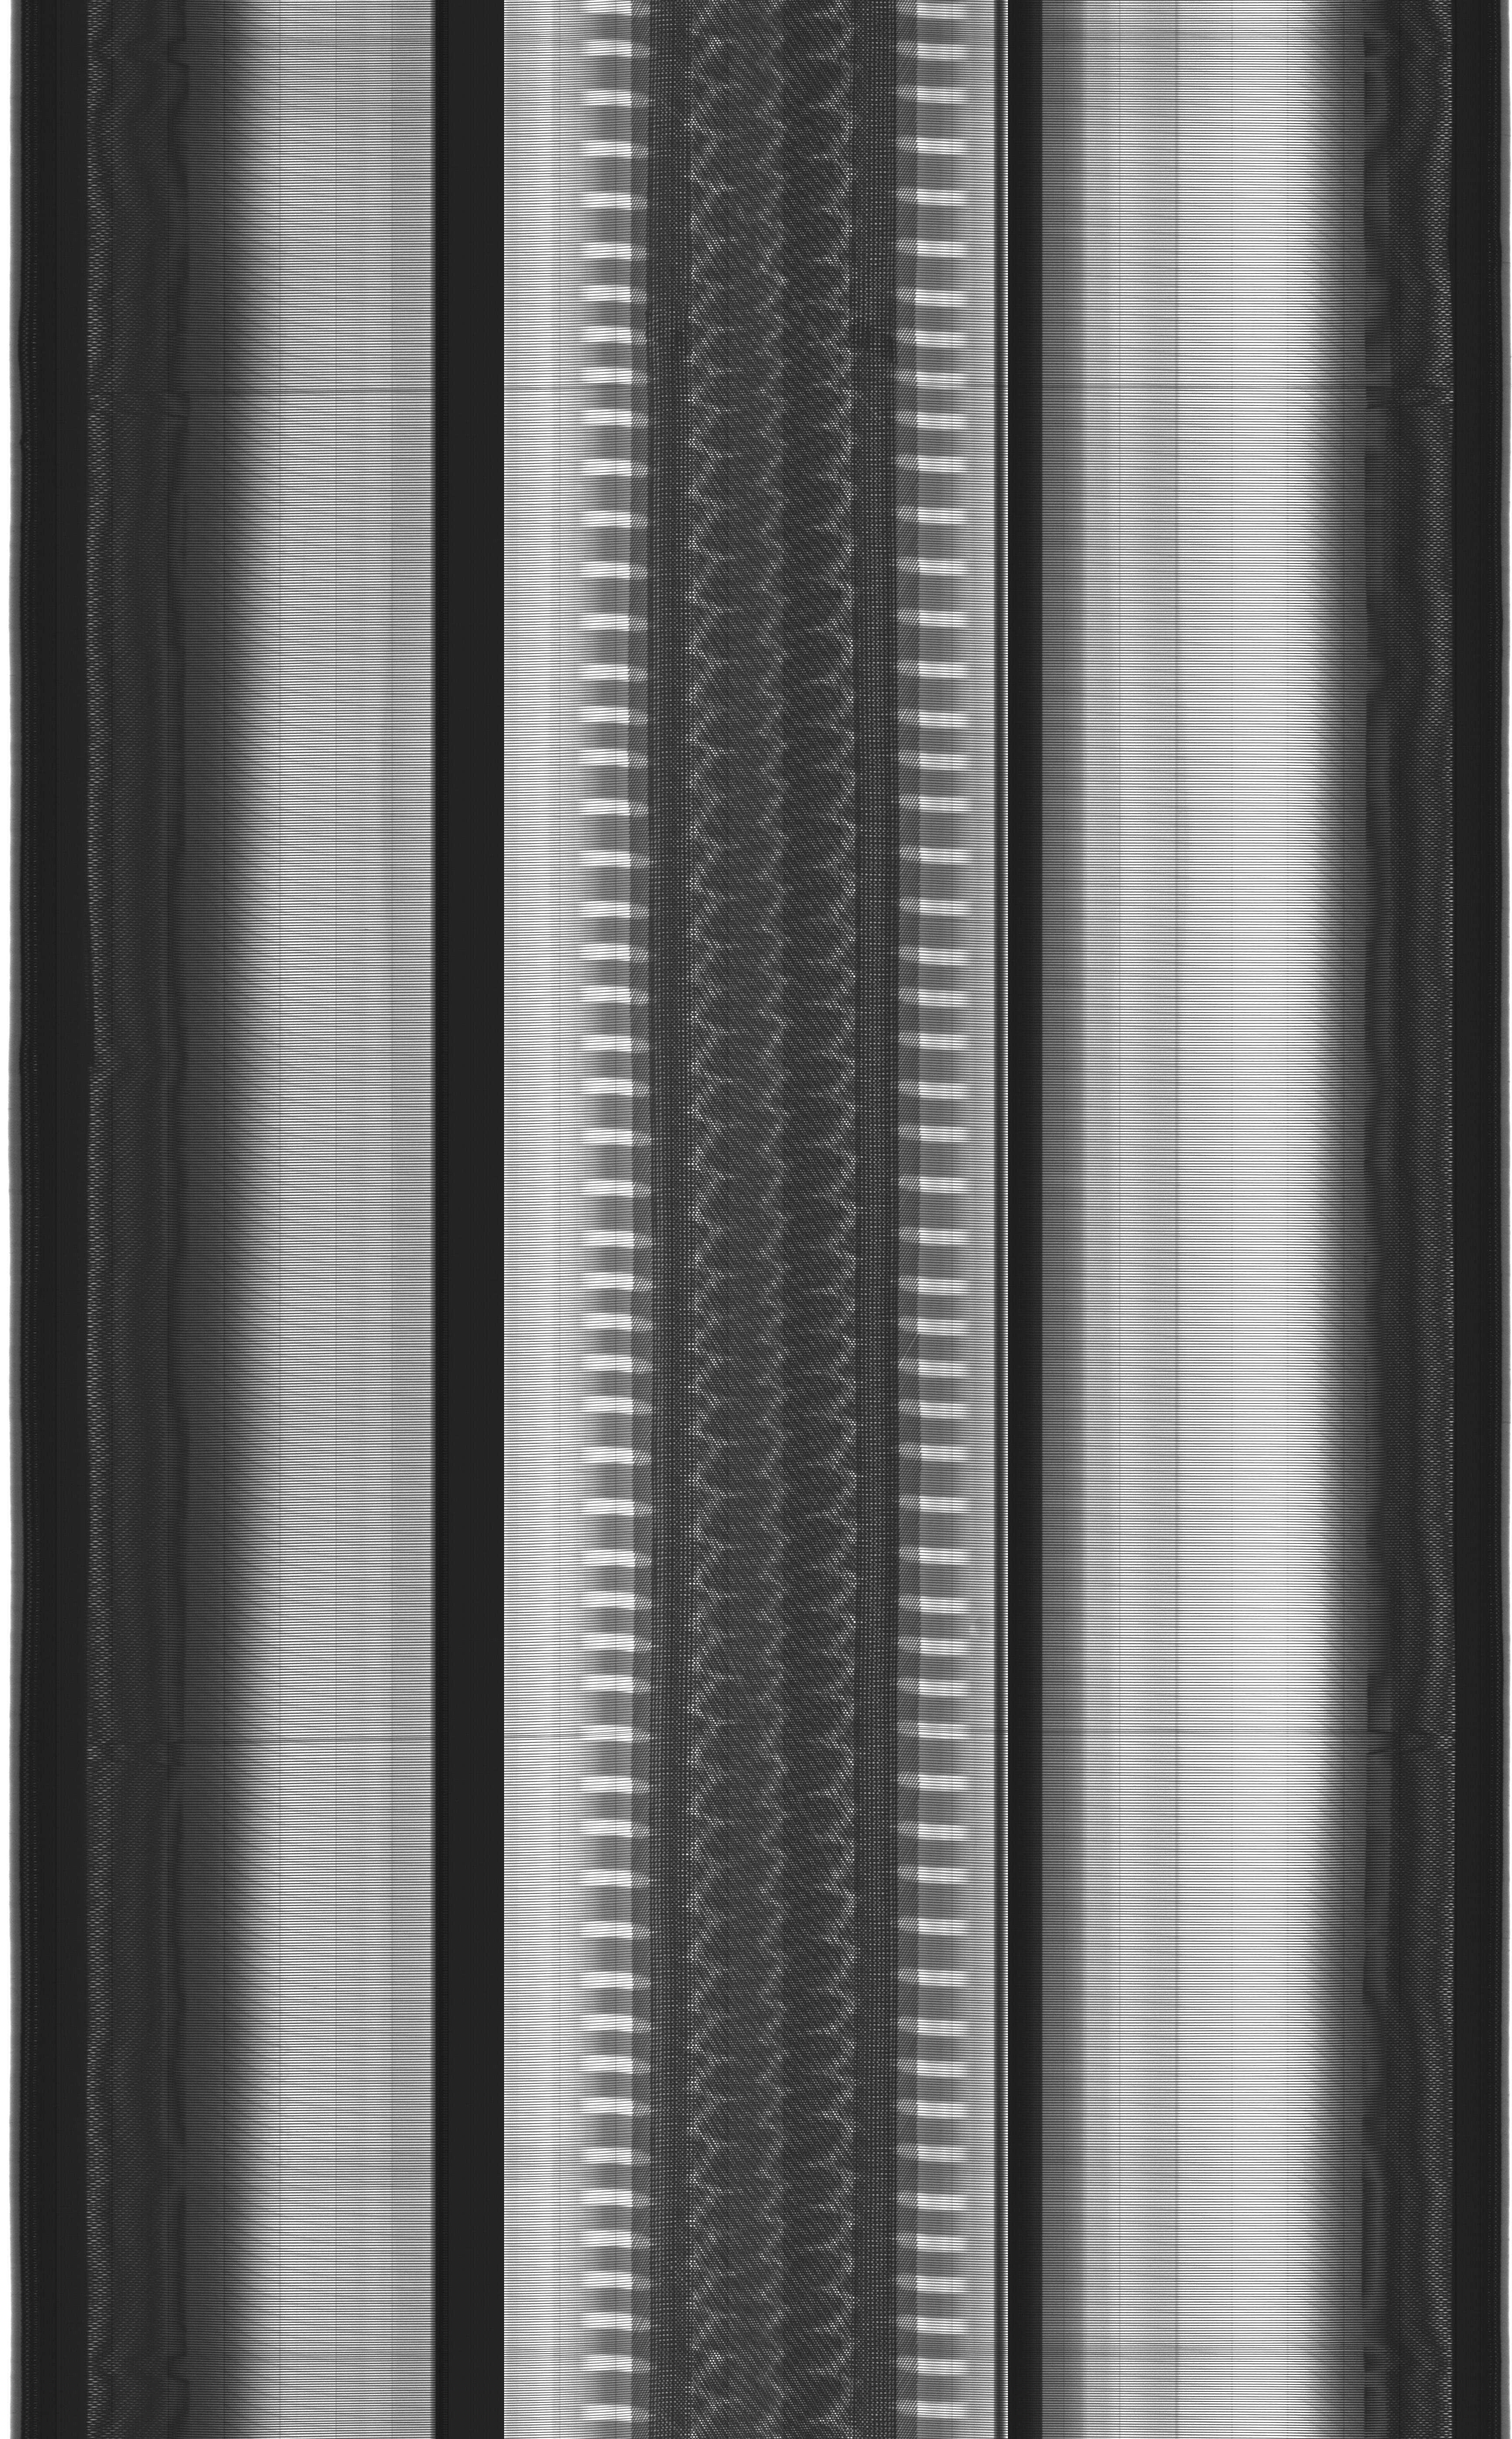72B: (960, 1611, 991, 1646)
